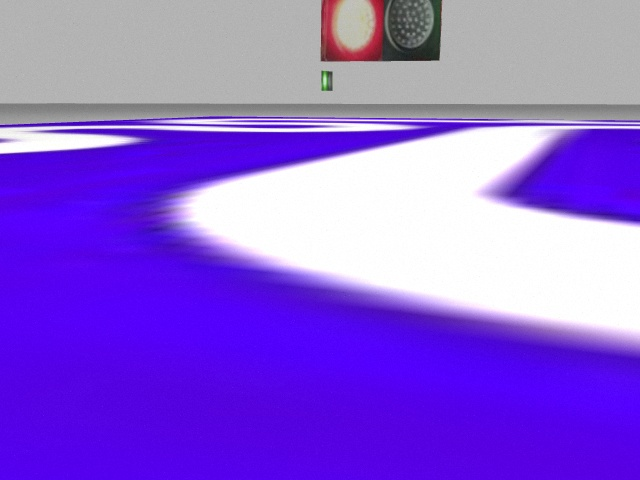red: (320, 1, 381, 60)
